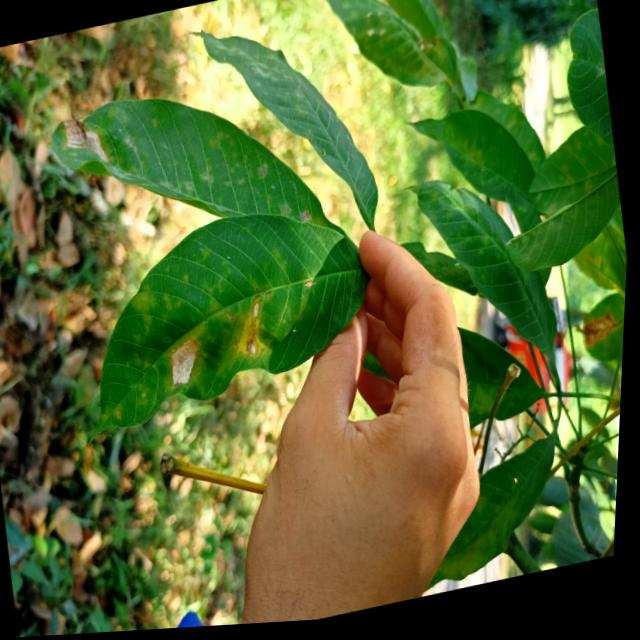Leaf-Blight: (60, 106, 113, 172), (170, 338, 209, 388), (242, 304, 270, 361)
